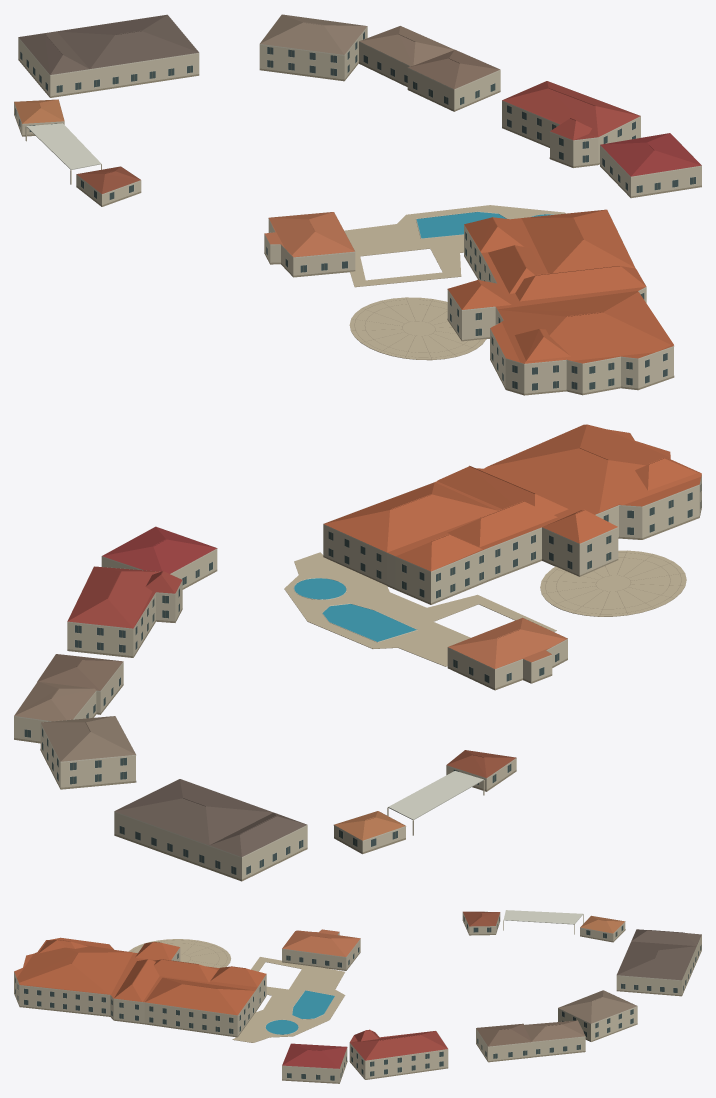
Rendered from Hillside-Villa-Compound.glb.
3 renders of one model, top to bottom at view 1: azimuth 30°, elevation 25°; view 2: azimuth 150°, elevation 25°; view 3: azimuth 270°, elevation 25°, orthographic. The views are drawn at different scales.
Visible parts, largest first — view 1: Traced villa walls and separate hipped roof wings (×11), Traced open amenity surface (×3); view 2: Traced villa walls and separate hipped roof wings (×11), Traced open amenity surface (×4); view 3: Traced villa walls and separate hipped roof wings (×11), Traced open amenity surface (×4).
Boxes of the visible parts, x1,y1,x2,y2 form: Traced villa walls and separate hipped roof wings (×11): (14,14,701,395); Traced open amenity surface (×3): (344,205,565,360); Traced villa walls and separate hipped roof wings (×11): (14,424,701,881); Traced open amenity surface (×4): (284,550,686,666); Traced villa walls and separate hipped roof wings (×11): (14,910,701,1083); Traced open amenity surface (×4): (129,939,345,1042).
Bounding box in the file's own units: 104 × 9.6 × 185.
